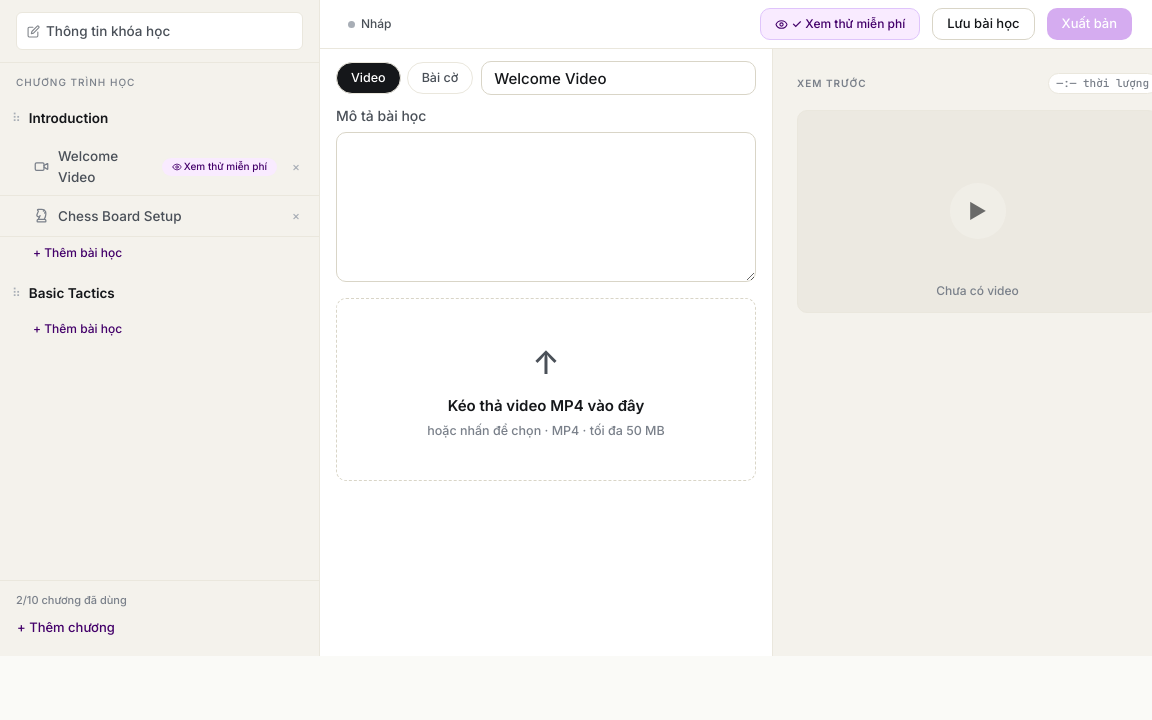
it: CourseEditPage › new lesson dialog hides puzzle type option (feature-flagged off)
This screenshot has width=1152, height=720.
expect the text "Introduction" is shown: met, box [29, 110, 108, 126]
Click the button with test id "add-lesson-ch1" at (85, 253), box [32, 237, 137, 269]
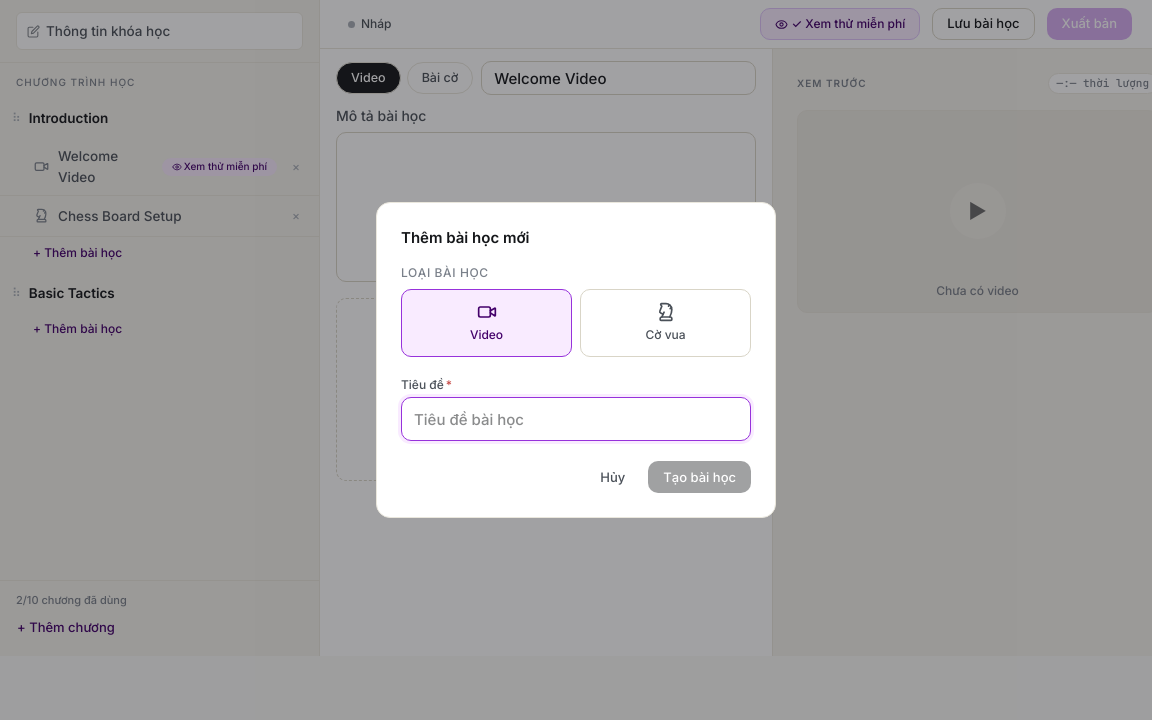
expect the element with test id "new-lesson-dialog" is shown: met, box [376, 202, 776, 518]
expect the button with test id "lesson-type-video" is shown: met, box [401, 289, 572, 357]
expect the button with test id "lesson-type-chess" is shown: met, box [580, 289, 751, 357]
